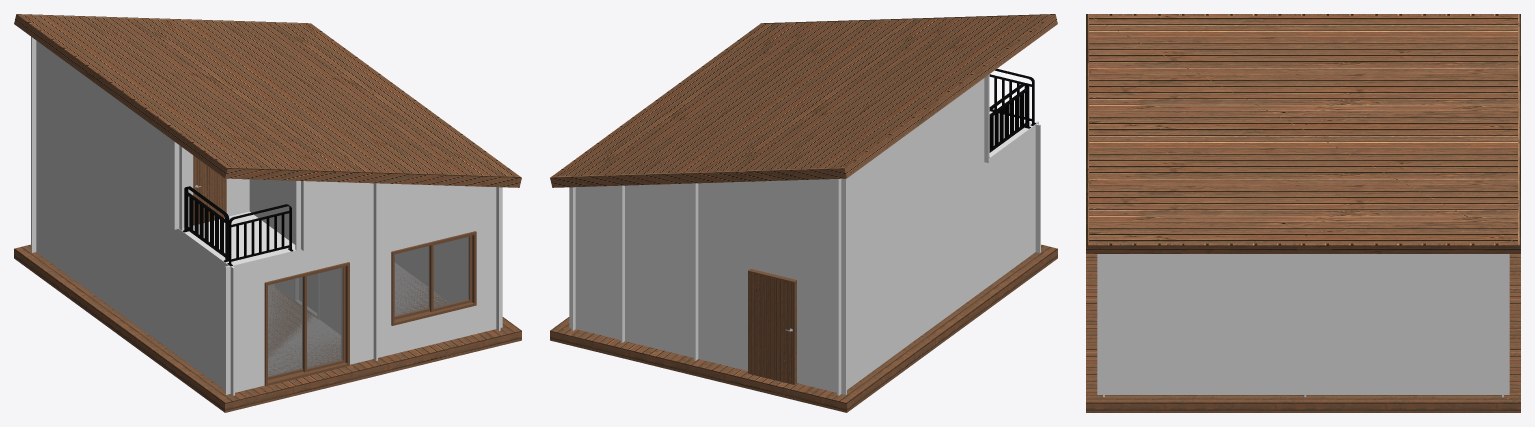
Rendered from 20210820_ADU COLLADA Converted II.dae.
3 renders of one model, left to right at view 1: azimuth 30°, elevation 25°; view 2: azimuth 150°, elevation 25°; view 3: azimuth 270°, elevation 25°, orthographic. The views are drawn at different scales.
Parts seen in each view (by area): view 1: Mesh (×15), Instance-Def-fance02_01 (×2), Instance-Def-900x2100_1_01; view 2: Mesh (×7), Instance-Def-fance02_01 (×2); view 3: Mesh (×4).
Part boxes in pixels (x1=…): Mesh (×15): x1=14, y1=14, x2=521, y2=412; Instance-Def-fance02_01 (×2): x1=183, y1=186, x2=293, y2=266; Instance-Def-900x2100_1_01: x1=294, y1=274, x2=318, y2=318; Mesh (×7): x1=550, y1=14, x2=1057, y2=412; Instance-Def-fance02_01 (×2): x1=989, y1=68, x2=1036, y2=157; Mesh (×4): x1=1086, y1=14, x2=1520, y2=412.
Size of the model in its own units: 7.19 by 8.85 by 5.64.
